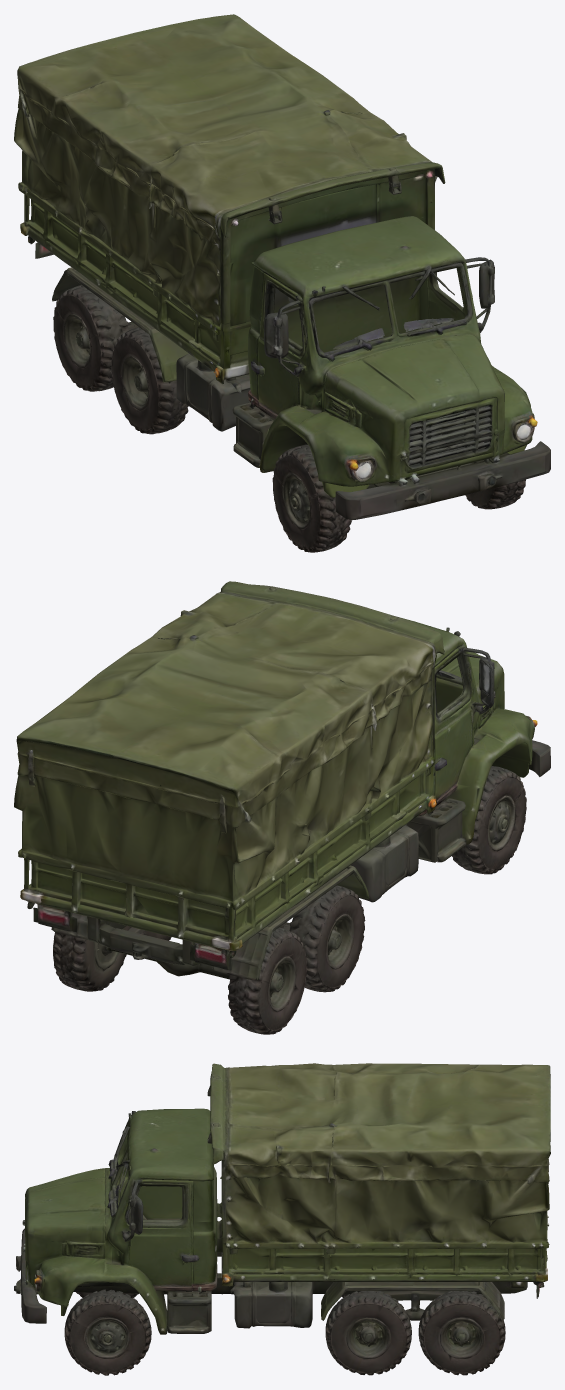
Rendered from truck.glb.
3 views of the same model, one above another, from view 1: azimuth 30°, elevation 25°; view 2: azimuth 150°, elevation 25°; view 3: azimuth 270°, elevation 25° (orthographic). The views are drawn at different scales.
Bounding box in the file's own units: 0.3987 × 0.4859 × 0.9837.
1 material, 1 textured.
